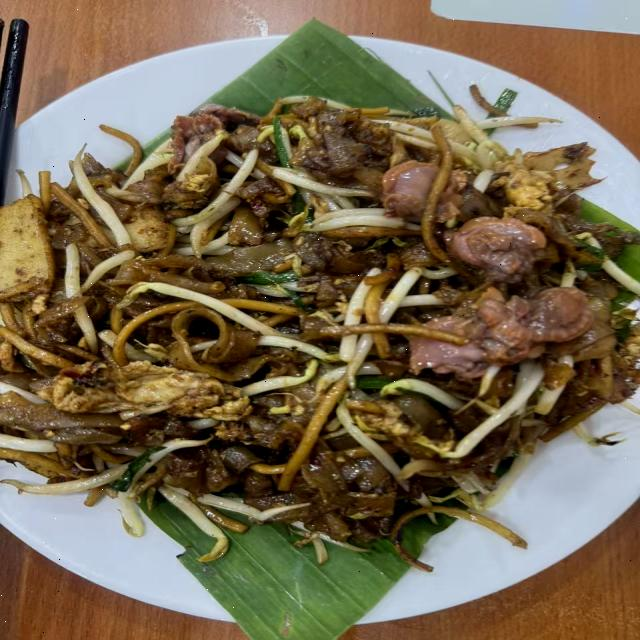Char Kway Teow: (1, 47, 637, 571)
